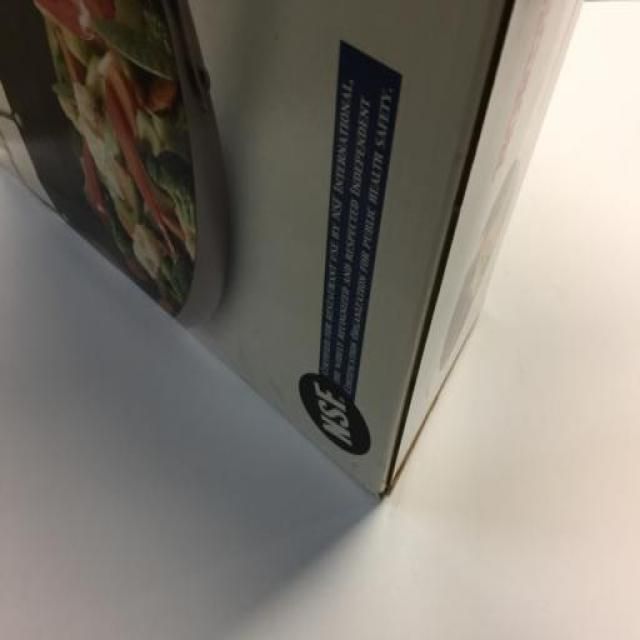cardboard: (1, 1, 503, 319), (244, 1, 473, 483)
